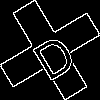D: (25, 25, 80, 83)
